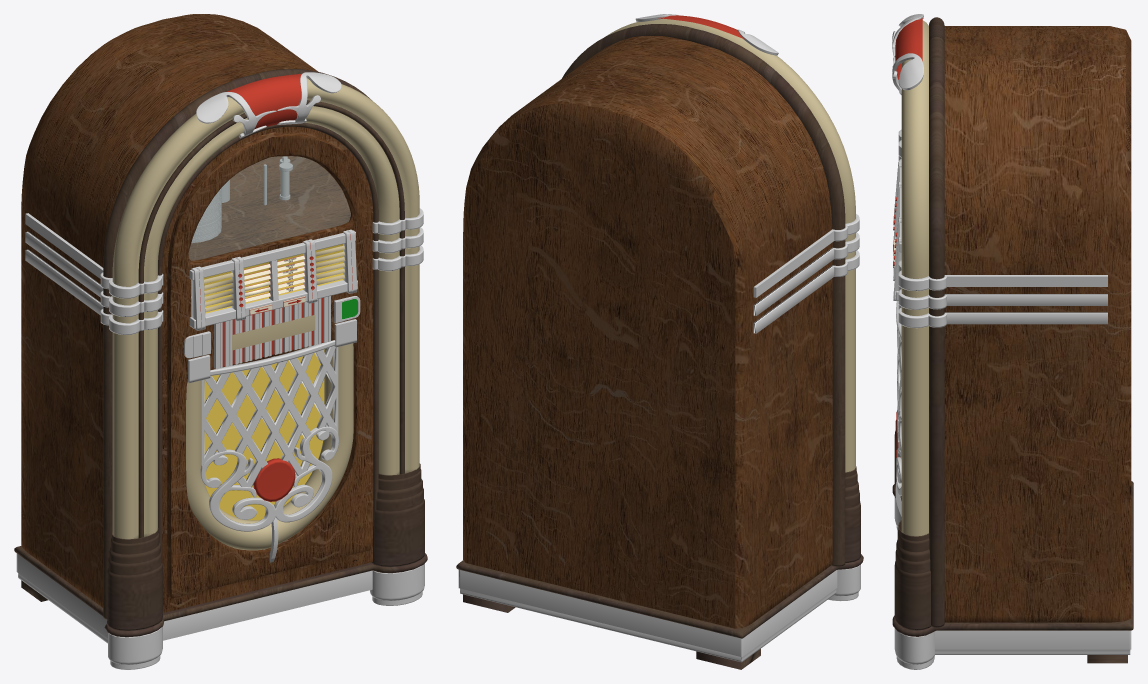
File: juke-separate.glb
The picture shows the model from 3 angles, left to right: view 1: azimuth 30°, elevation 25°; view 2: azimuth 150°, elevation 25°; view 3: azimuth 270°, elevation 25°; orthographic projection. The views are drawn at different scales.
Visible parts, largest first — view 1: jukebox_outer, Object_14, Object_13, metal, Object_11, glass, metal.003, gold_plate, Object_12, red_details, metal.002, metal.001 (+1 smaller); view 2: jukebox_outer, Object_13, Object_12, Object_14, metal.003, Object_11, metal.001, metal.002; view 3: jukebox_outer, Object_13, Object_14, Object_11, Object_12, metal.001, metal.003, metal.002, red_details, metal.
Boxes of the visible parts, box(x1,y1,x2,y2) form: jukebox_outer: box(21, 14, 373, 612); Object_14: box(112, 78, 419, 550); Object_13: box(14, 69, 427, 637); metal: box(196, 206, 338, 531); Object_11: box(25, 72, 423, 640); glass: box(188, 156, 350, 260); metal.003: box(25, 92, 423, 562); gold_plate: box(191, 244, 342, 520); Object_12: box(16, 195, 357, 643); red_details: box(199, 73, 353, 501); metal.002: box(108, 319, 424, 669); metal.001: box(25, 213, 103, 278); jukebox_outer: box(463, 36, 832, 628); Object_13: box(456, 24, 863, 669); Object_12: box(458, 569, 837, 662); Object_14: box(605, 18, 855, 472); metal.003: box(738, 29, 859, 315); Object_11: box(635, 14, 834, 333); metal.001: box(753, 229, 834, 297); metal.002: box(828, 564, 860, 601); jukebox_outer: box(944, 26, 1131, 622); Object_13: box(892, 17, 1133, 663); Object_14: box(901, 20, 928, 536); Object_11: box(892, 53, 1107, 341); Object_12: box(893, 162, 1131, 654); metal.001: box(944, 275, 1107, 286); metal.003: box(892, 14, 946, 516); metal.002: box(894, 497, 934, 669); red_details: box(895, 18, 922, 457); metal: box(896, 327, 901, 495).
Size of the model in its own units: 92.05 by 152 by 59.56.
17 materials, 10 textured.
